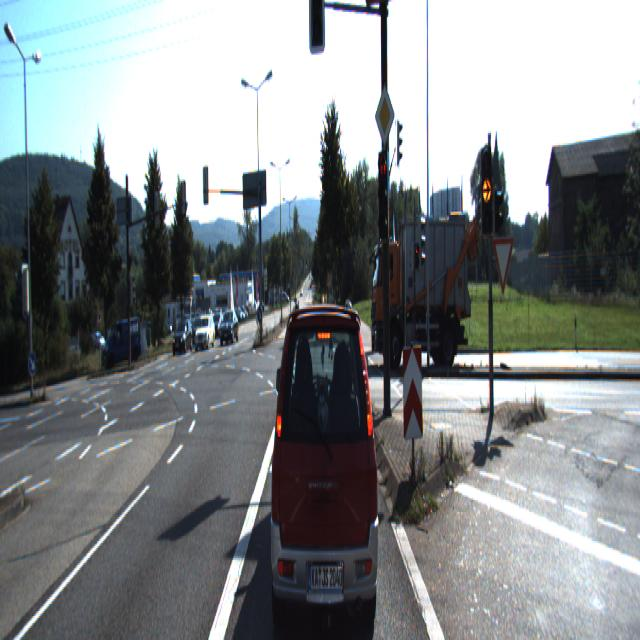Car: (267, 282, 382, 638), (195, 316, 215, 350), (173, 321, 193, 355), (219, 308, 239, 342)
DontCare: (230, 301, 252, 320)
Truck: (368, 216, 476, 369)
Van: (100, 316, 141, 372)
